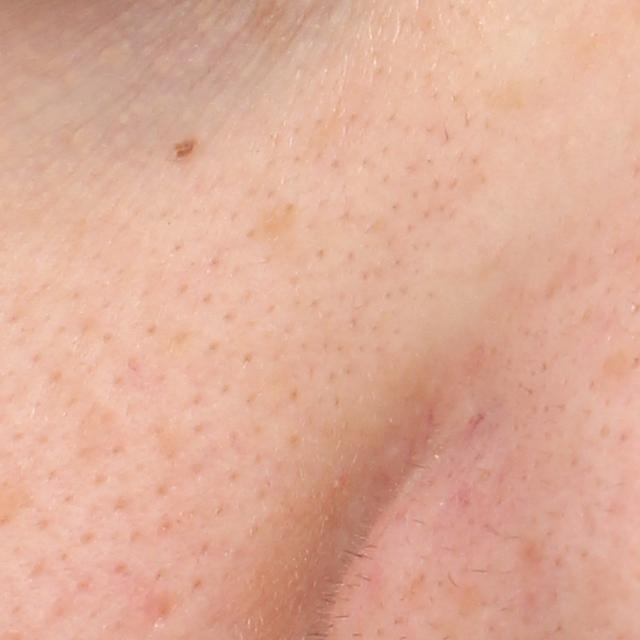atrophic_scar: (140, 589, 181, 635)
nevus: (170, 137, 200, 159)
